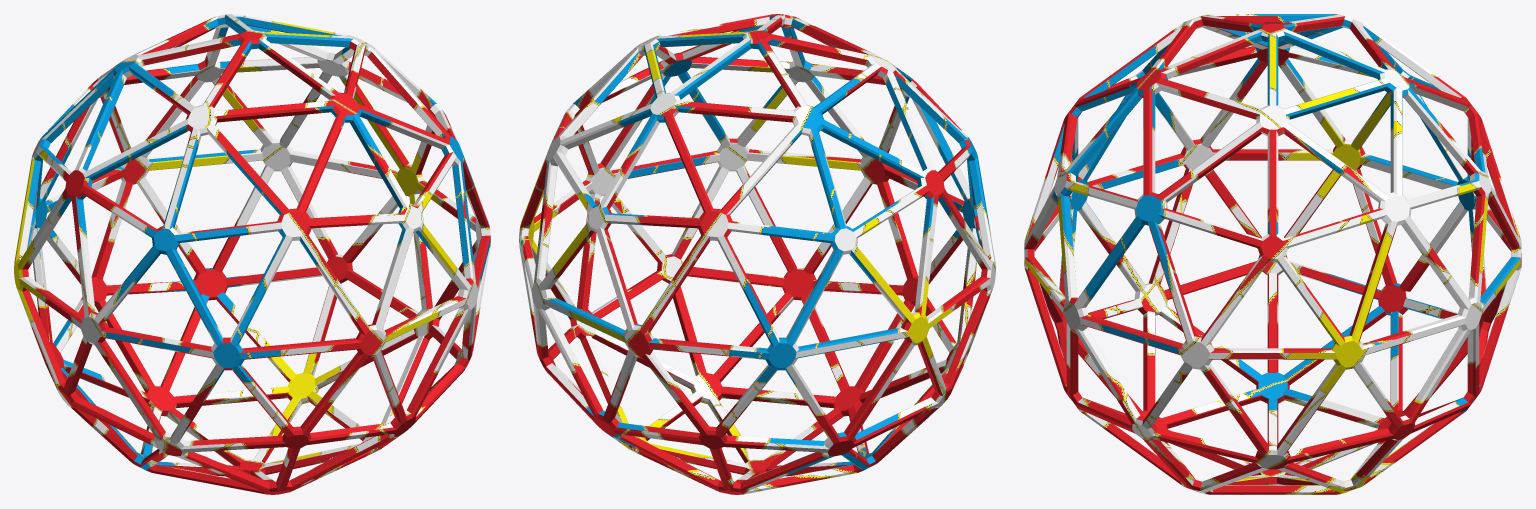
Rendered from cage.glb.
The picture shows the model from 3 angles, left to right: view 1: azimuth 30°, elevation 25°; view 2: azimuth 150°, elevation 25°; view 3: azimuth 270°, elevation 25°; orthographic projection. The views are drawn at different scales.
Parts seen in each view (by area): view 1: Icosphere; view 2: Icosphere; view 3: Icosphere.
Boxes of the visible parts, left/top/right/bottom form: Icosphere: left=14, top=14, right=490, bottom=494; Icosphere: left=519, top=14, right=995, bottom=494; Icosphere: left=1024, top=14, right=1521, bottom=494.
Size of the model in its own units: 1.94 by 2.01 by 2.
Materials: 1 (1 with a texture image).
